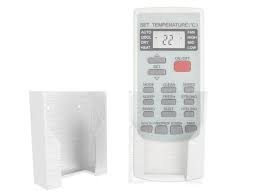remote control: (131, 2, 210, 189)
